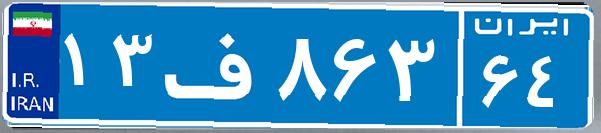1: (57, 26, 110, 107)
3: (385, 28, 445, 110), (110, 28, 158, 105)
4: (525, 38, 570, 115)
6: (330, 28, 385, 110), (475, 38, 525, 113)
8: (273, 28, 330, 110)
ف: (158, 15, 273, 115)
